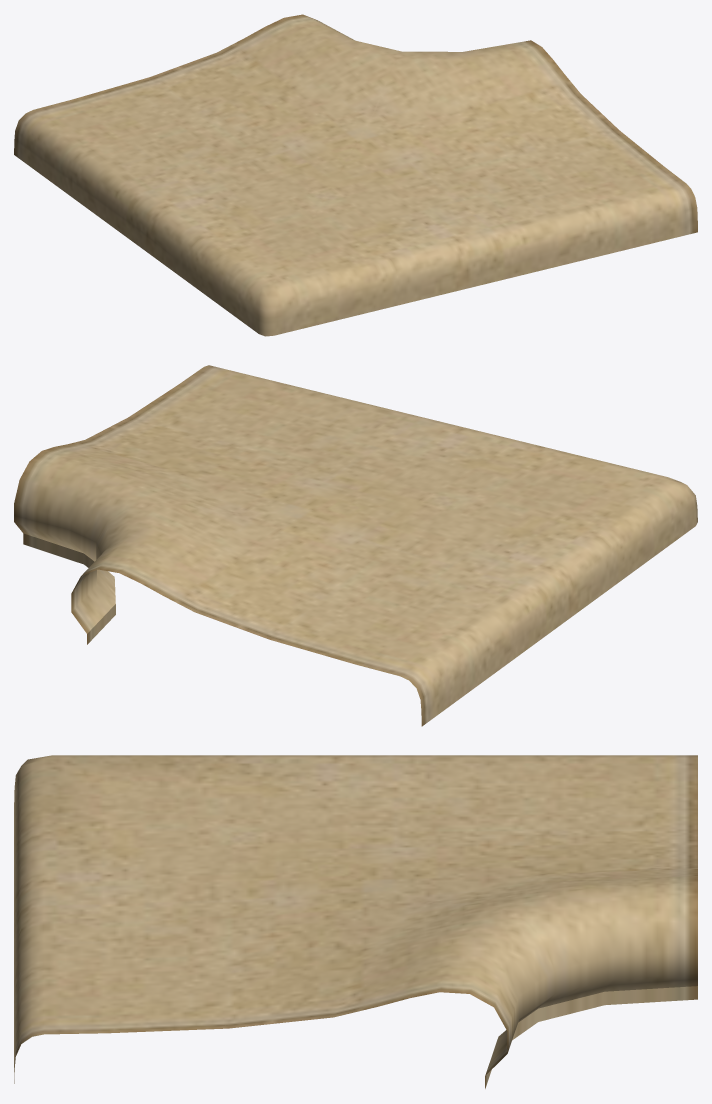
Rendered from margelles.fbx.
3 views of the same model, one above another, from view 1: azimuth 30°, elevation 25°; view 2: azimuth 150°, elevation 25°; view 3: azimuth 270°, elevation 25° (orthographic). The views are drawn at different scales.
Visible parts, largest first — view 1: Shape03; view 2: Shape03; view 3: Shape03.
Boxes of the visible parts, x1,y1,x2,y2 form: Shape03: [14, 14, 697, 336]; Shape03: [14, 365, 697, 726]; Shape03: [14, 755, 697, 1088].
Size of the model in its own units: 0.4501 by 0.4501 by 0.0706.
